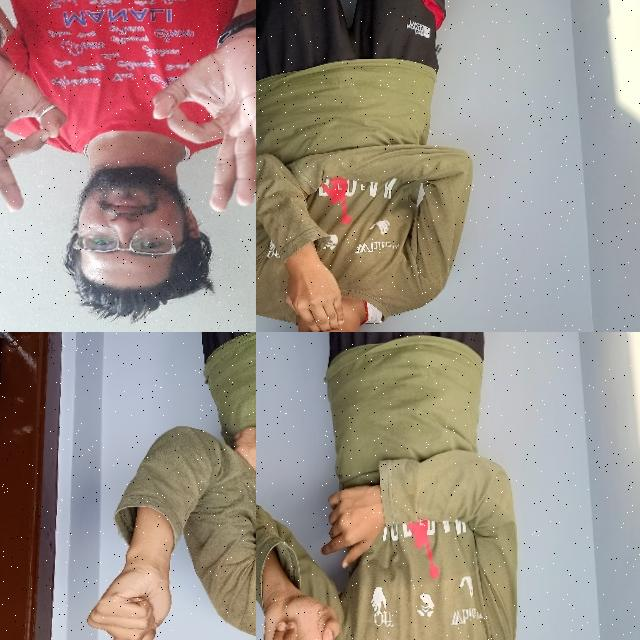Chin Flick: (260, 234, 411, 332)
Corna: (256, 557, 350, 640)
Dulya: (79, 534, 192, 640)
Okay: (146, 23, 256, 215), (0, 36, 74, 223)
